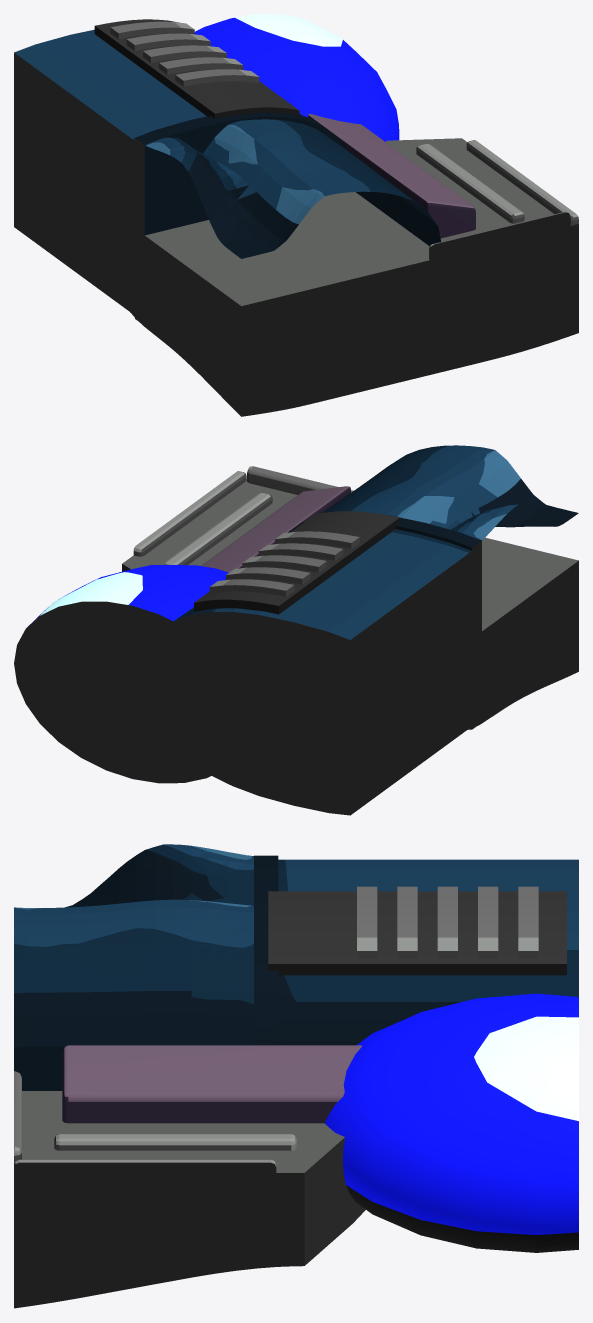
The model's file is camanis_boss_83.glb.
3 renders of one model, top to bottom at view 1: azimuth 30°, elevation 25°; view 2: azimuth 150°, elevation 25°; view 3: azimuth 270°, elevation 25°, orthographic. The views are drawn at different scales.
Visible parts, largest first — view 1: camanis_boss_83; view 2: camanis_boss_83; view 3: camanis_boss_83.
Part boxes in pixels (x1=…): camanis_boss_83: x1=14, y1=14, x2=578, y2=416; camanis_boss_83: x1=14, y1=445, x2=578, y2=815; camanis_boss_83: x1=14, y1=844, x2=578, y2=1308.
Bounding box in the file's own units: 24 × 14.92 × 28.
